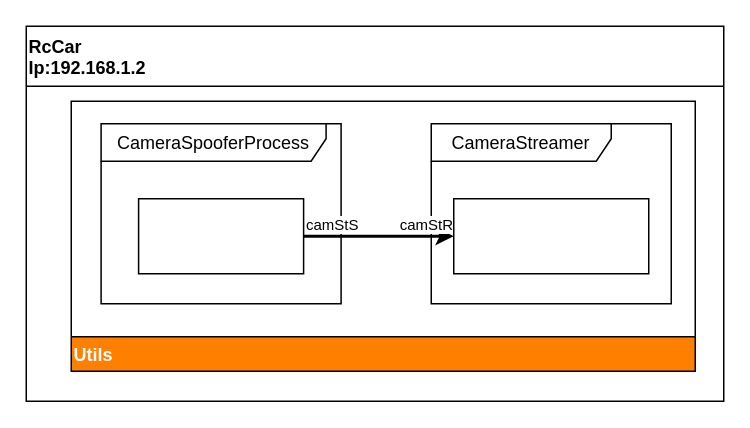
The diagram is 750 pixels wide and 428 high, and some of its shapes have lost their labels. The centre of each missing label's shape, as x and y in pixels:
StreamSending: the point at 550,235
VideoPlayerThread: the point at 220,235
